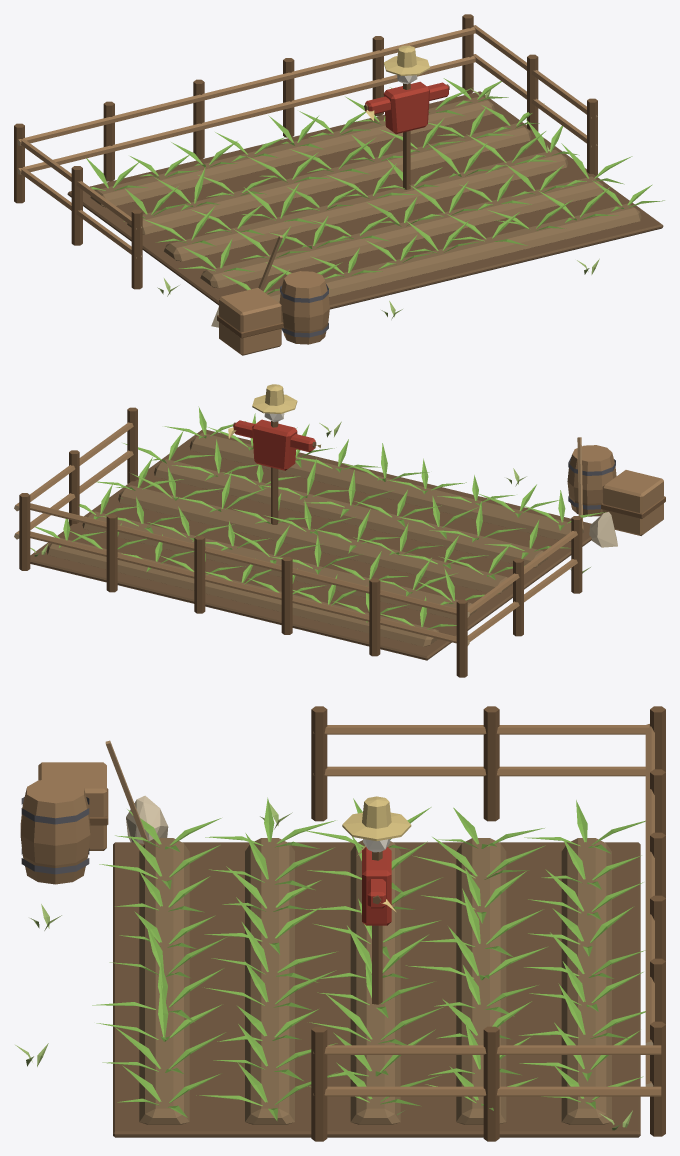
File: farm_1.glb
The picture shows the model from 3 angles, top to bottom: view 1: azimuth 30°, elevation 25°; view 2: azimuth 150°, elevation 25°; view 3: azimuth 270°, elevation 25°; orthographic projection. The views are drawn at different scales.
Visible parts, largest first — view 1: Farm; view 2: Farm; view 3: Farm.
Boxes of the visible parts, <box> form: Farm: <box>14,14,664,355</box>; Farm: <box>14,384,665,677</box>; Farm: <box>15,706,665,1141</box>.
Size of the model in its own units: 7.05 by 2.16 by 5.68.
